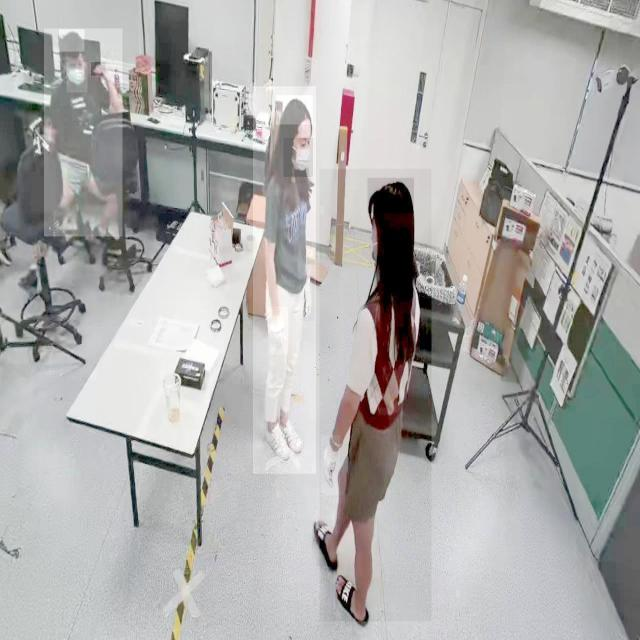face_mask: (283, 138, 313, 177), (66, 62, 88, 94)
hand_glove: (321, 436, 341, 496), (268, 306, 288, 356), (301, 276, 315, 322)
hand_noglove: (91, 62, 106, 76)
head_nohelmet: (368, 178, 414, 214), (276, 95, 313, 125), (59, 29, 85, 52)
person: (320, 169, 432, 622), (253, 86, 317, 475), (44, 29, 123, 238)
shoes: (276, 409, 306, 459), (262, 413, 291, 463)
